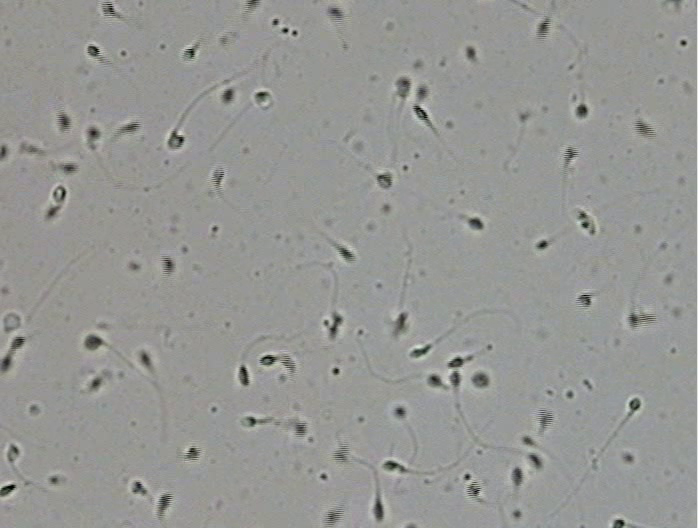S: (575, 209, 596, 235), (634, 120, 656, 139), (156, 493, 173, 517), (328, 313, 343, 340), (537, 407, 554, 430), (325, 508, 344, 526), (336, 245, 356, 262), (395, 77, 411, 98), (392, 312, 407, 334), (167, 131, 185, 149), (84, 334, 103, 351), (160, 255, 174, 278), (280, 353, 296, 373), (211, 166, 225, 188), (333, 444, 349, 463), (466, 480, 482, 499), (410, 344, 431, 358), (536, 19, 550, 40), (412, 103, 428, 121), (237, 364, 250, 386), (372, 500, 385, 521), (184, 446, 201, 462), (376, 173, 393, 189), (471, 372, 489, 387), (118, 122, 140, 134), (576, 293, 592, 309), (293, 421, 308, 438), (528, 452, 543, 469), (56, 114, 70, 132), (52, 185, 66, 203), (511, 467, 524, 486), (638, 311, 657, 324), (101, 1, 116, 17), (563, 146, 578, 162), (130, 481, 147, 495), (137, 351, 151, 367), (9, 336, 26, 349), (467, 217, 484, 230), (7, 444, 19, 462), (221, 88, 235, 103), (328, 7, 343, 21), (449, 370, 461, 387), (627, 313, 639, 330), (259, 355, 277, 366), (427, 374, 441, 388), (86, 44, 101, 57), (181, 48, 196, 61), (1, 483, 16, 496), (415, 85, 428, 100), (254, 91, 270, 103), (63, 162, 79, 174), (448, 356, 464, 368), (86, 128, 100, 141), (88, 377, 102, 390), (575, 104, 588, 118), (628, 397, 642, 410), (465, 45, 477, 60), (393, 406, 406, 419), (241, 416, 256, 427), (46, 206, 59, 218), (535, 239, 549, 250), (1, 356, 11, 371), (382, 460, 397, 470), (244, 1, 260, 10), (522, 436, 536, 446), (612, 519, 625, 528), (1, 144, 8, 160)
